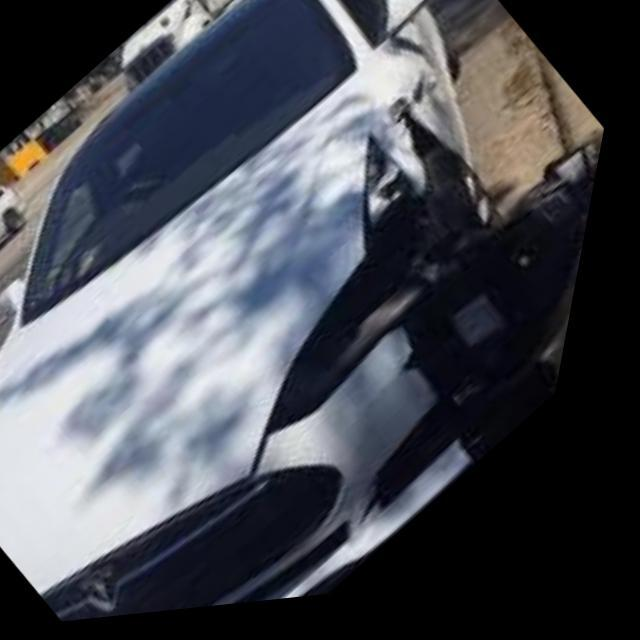no part: (258, 112, 608, 497)
